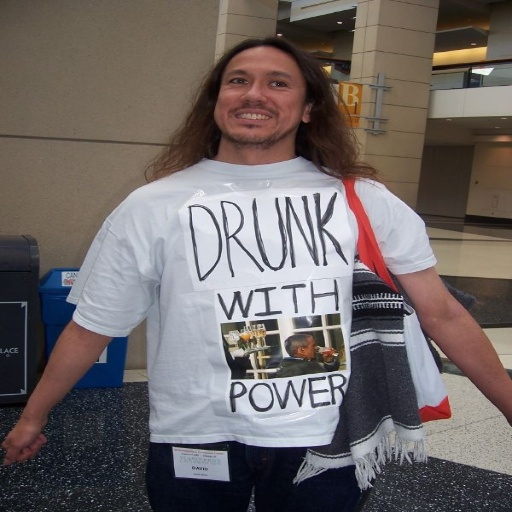hand: (3, 394, 43, 460), (320, 349, 332, 360)
